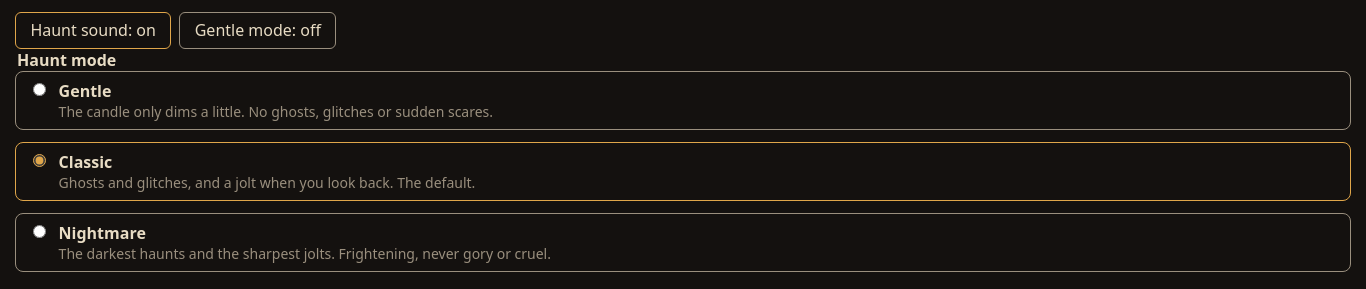
Haunt_Mode (Req 2.x, 12.4) › stays in sync with the top-bar control in both directions
This screenshot has width=1366, height=289.
Click the button "Gentle mode: off" at (258, 30), box left=179, top=12, right=336, bottom=49
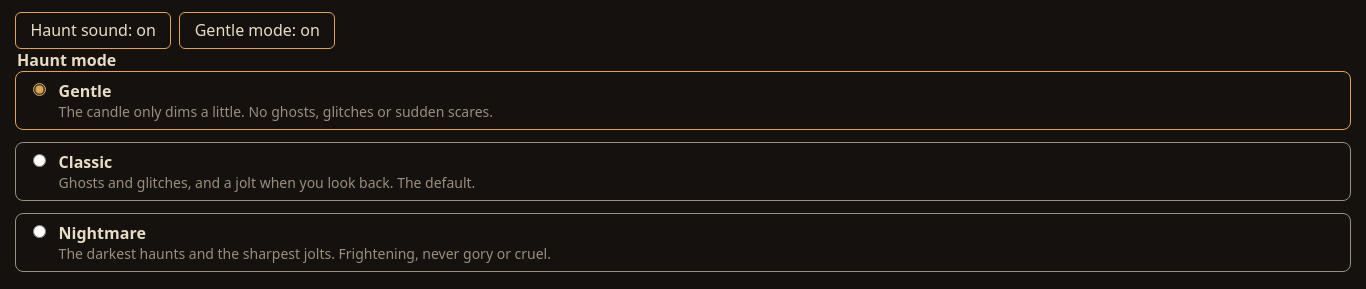
Expected: the radio button labelled "Gentle" is checked, left=33, top=83, right=46, bottom=96
Expected: the button "Gentle mode: on" is shown, left=179, top=12, right=335, bottom=49
Click the radio button labelled "Nightmare" at (40, 231), box left=33, top=225, right=46, bottom=238
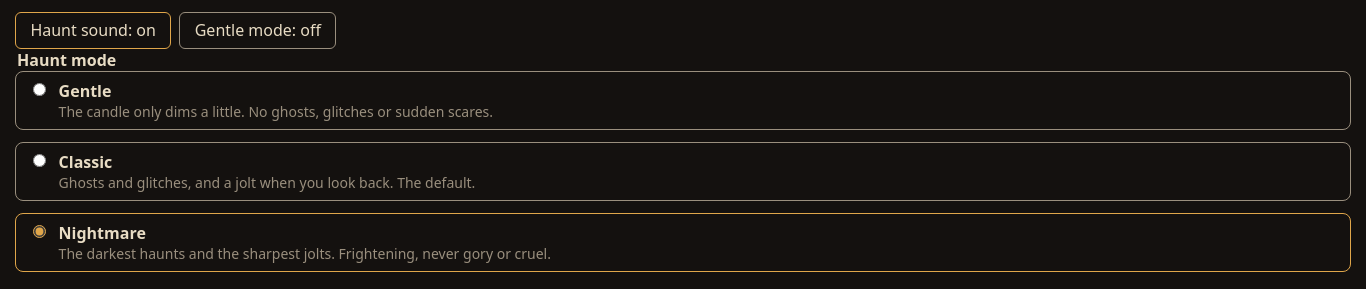
Expected: the button "Gentle mode: off" is shown, left=179, top=12, right=336, bottom=49
Click the radio button labelled "Gentle" at (40, 89), box left=33, top=83, right=46, bottom=96
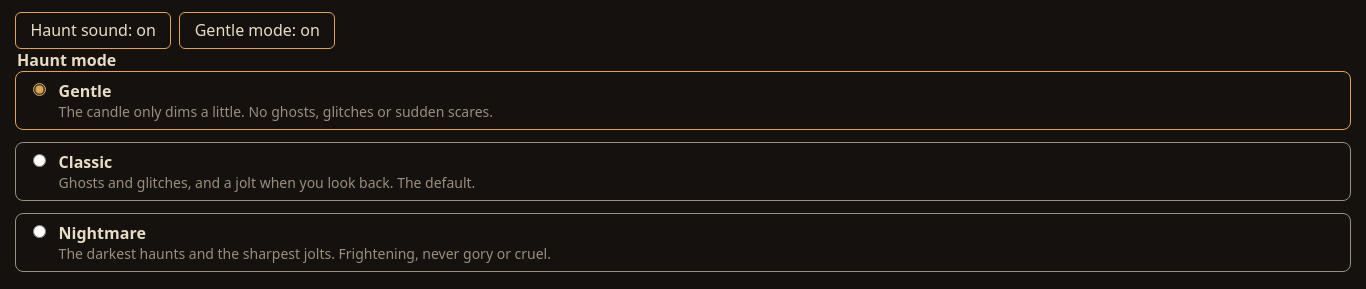
Expected: the button "Gentle mode: on" is shown, left=179, top=12, right=335, bottom=49
